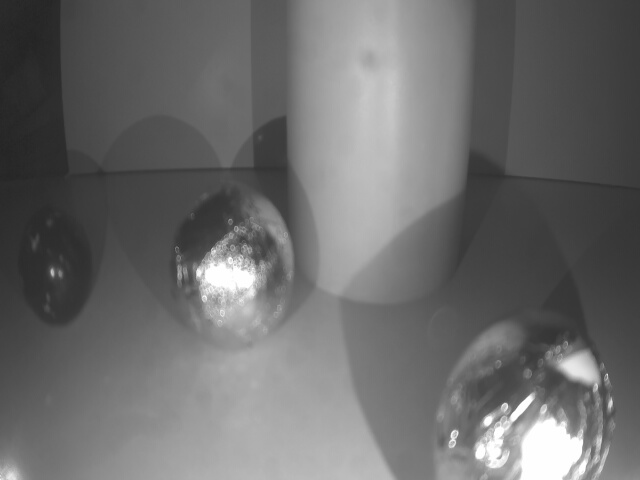Dead: (18, 209, 95, 320)
Live: (441, 297, 614, 480), (165, 184, 295, 353)
